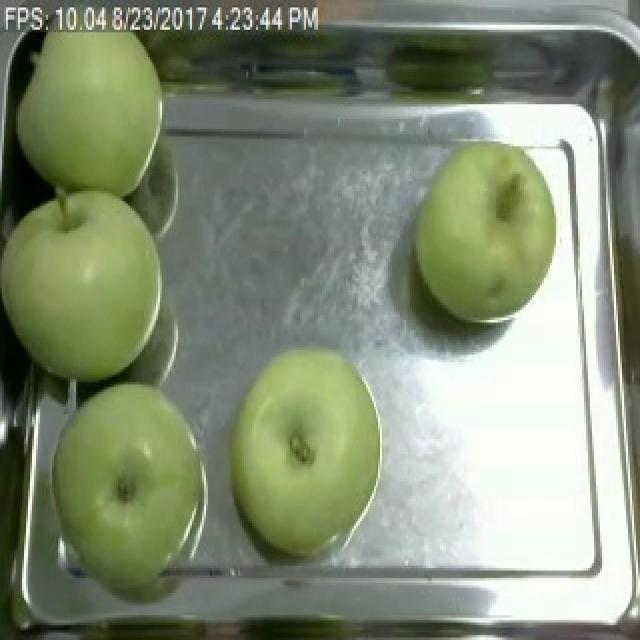50-_ripeness: (0, 185, 179, 382), (41, 397, 219, 589), (240, 341, 386, 560), (12, 0, 172, 196), (413, 130, 552, 330)
